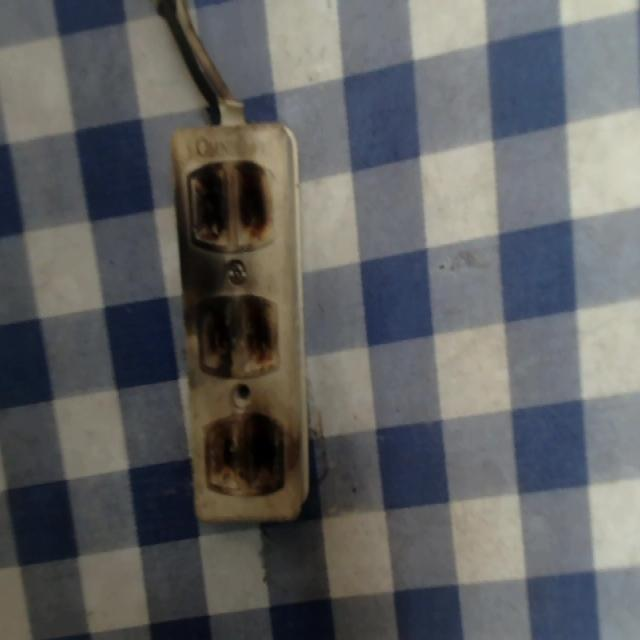-: (183, 155, 276, 252), (201, 405, 287, 500), (194, 291, 282, 378)
